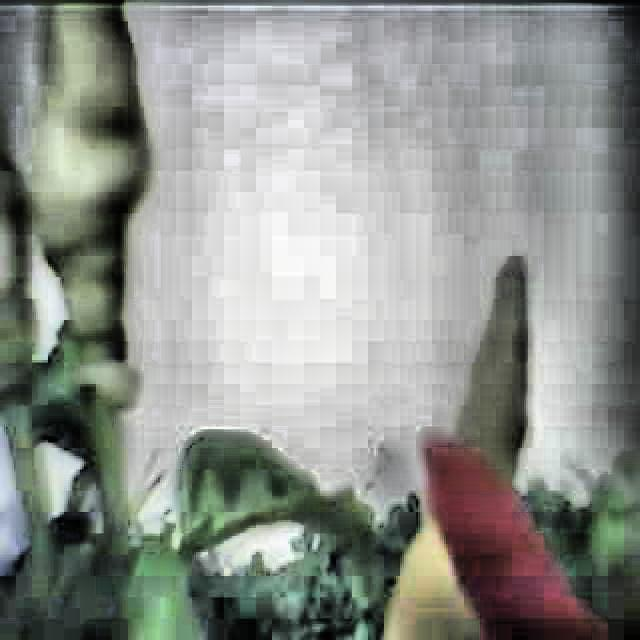Cabai: (30, 0, 172, 388), (417, 424, 594, 640)
